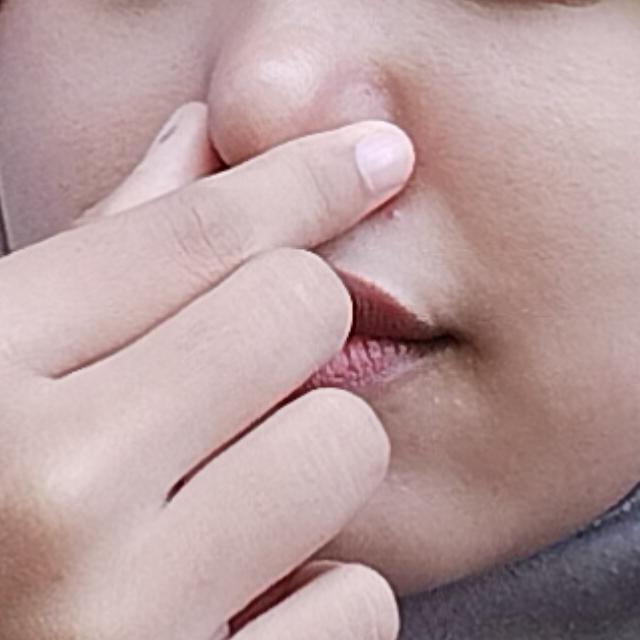bau: (0, 38, 536, 640)
